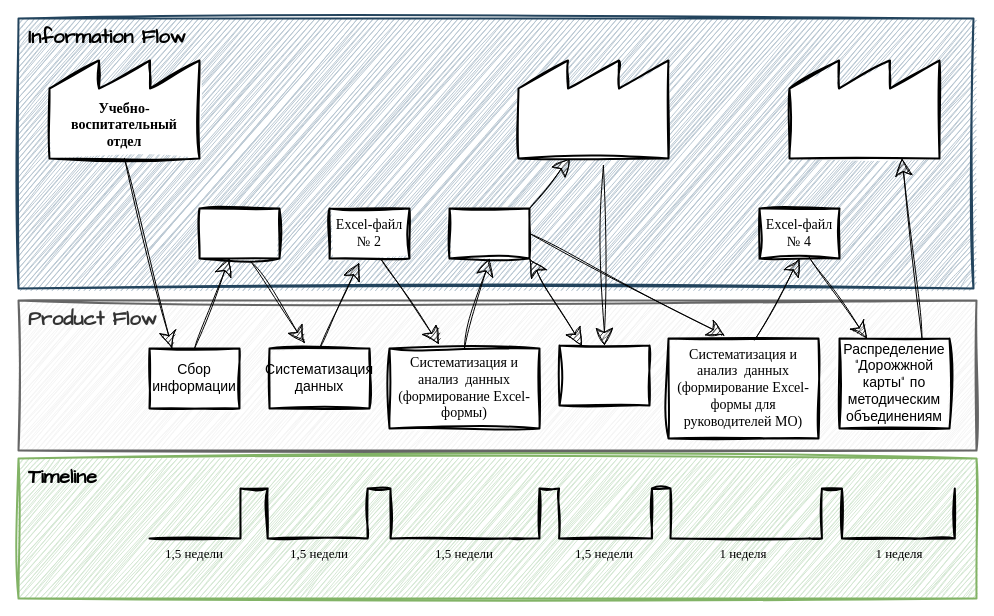
Some shapes in this 994 by 616 pixel diagram are drawn without their labels. Here are the shapes that lost their labels. From the top down, the centre of each, then its label:
pixel 593 108: Директор образовательного учреждения
pixel 864 108: Руководители методических объединений
pixel 239 233: Excel-файл № 1
pixel 489 233: Excel-файл № 3
pixel 604 375: Утверждение "Дорожной карты"
